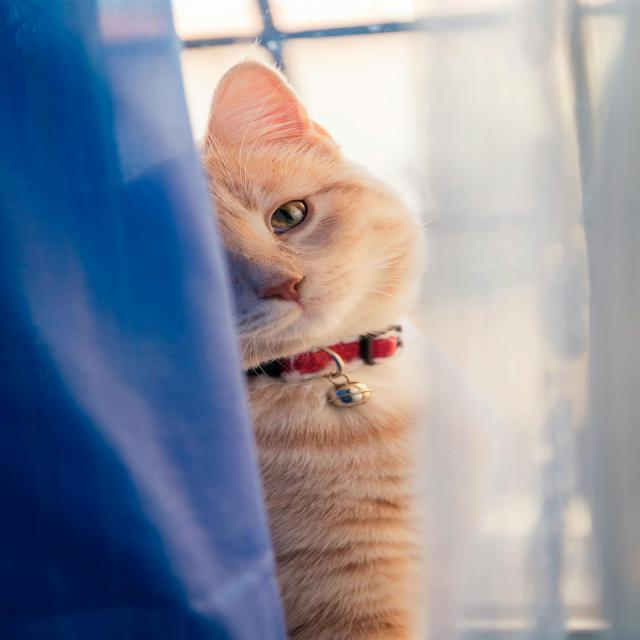Cat: (198, 39, 434, 638)
